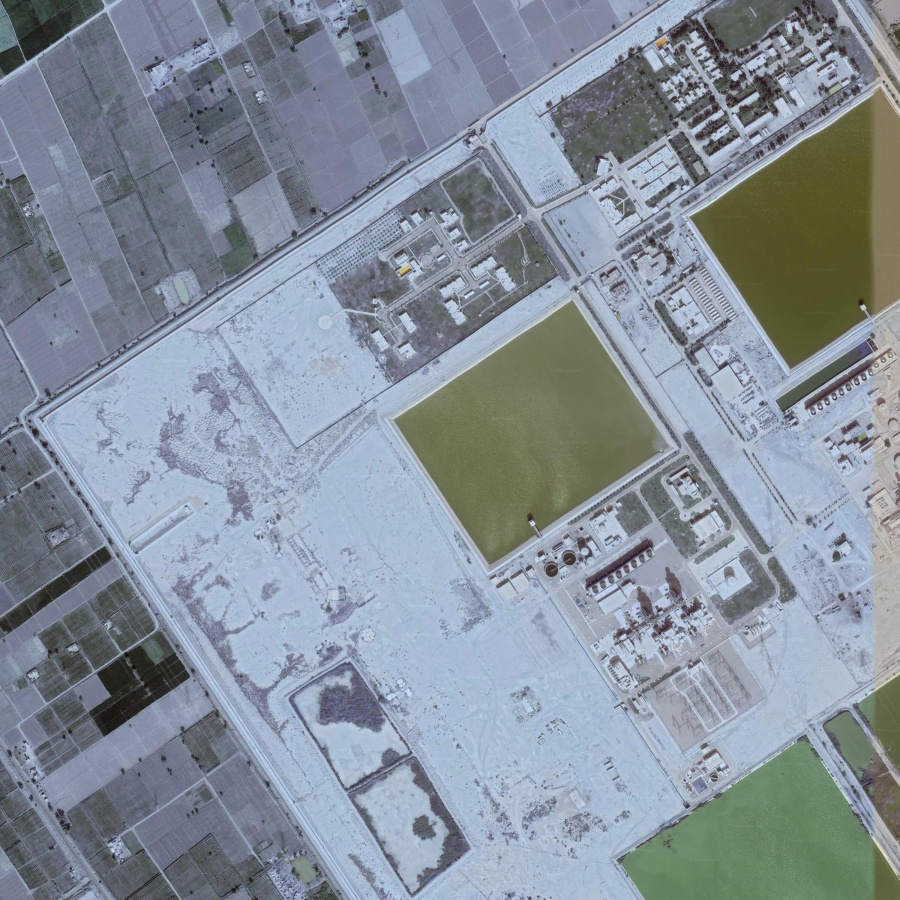PowerPlant: (541, 463, 783, 784)
